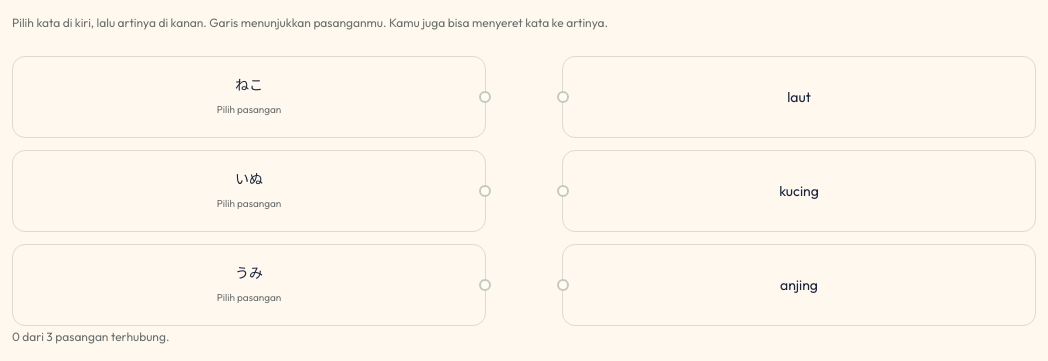
Scenario: connected matching exercise › reassigns an occupied answer without keeping a stale connection
Click the button with aria-label "ねこ, pilih pasangan".
click(249, 97)  # box [12,56,486,138]
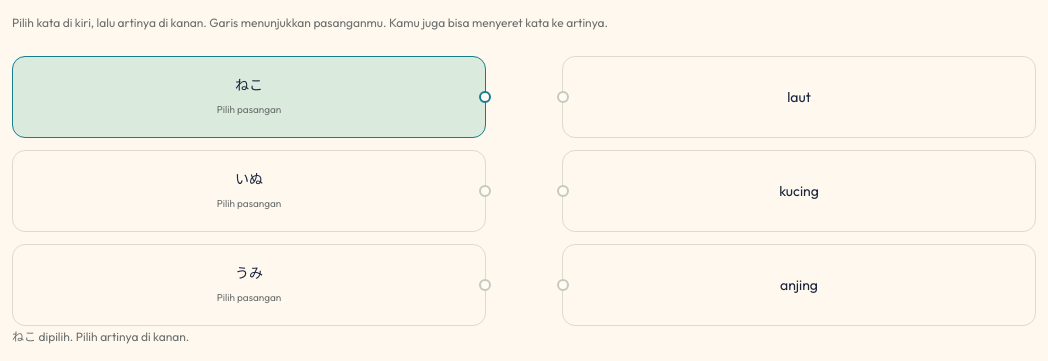
Click the button "kucing".
click(799, 191)  # box [562,150,1036,232]
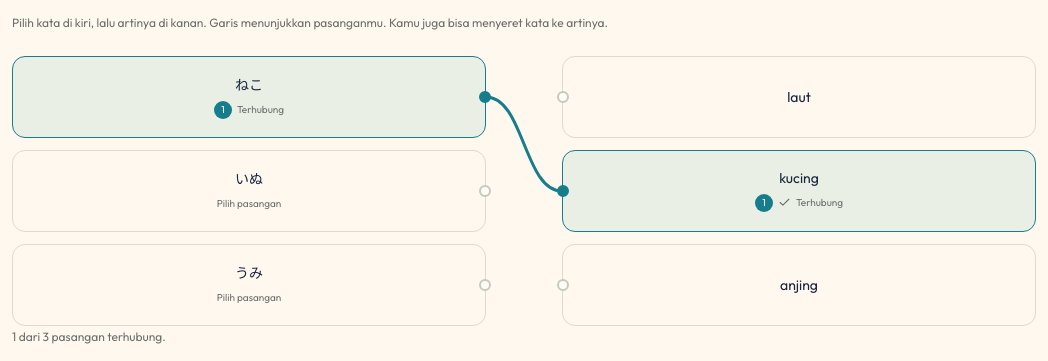
Click the button with aria-label "いぬ, pilih pasangan".
click(249, 191)  # box [12,150,486,232]
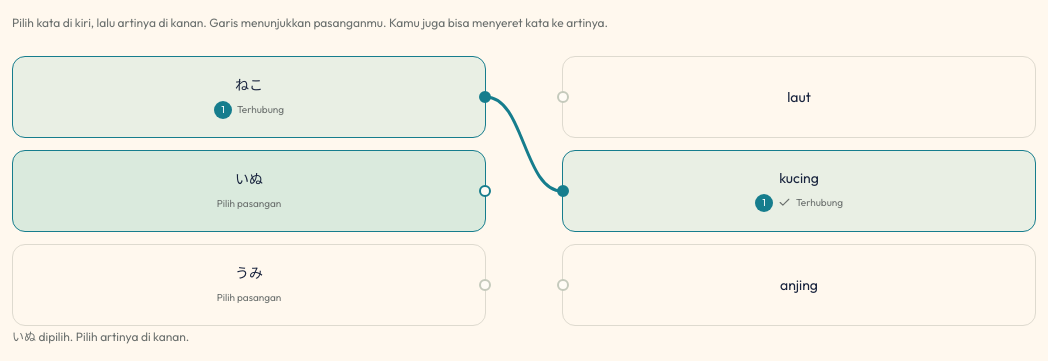
Click the button with aria-label "kucing, pasangan 1 dengan ねこ".
click(799, 178)  # box [562,150,1036,232]
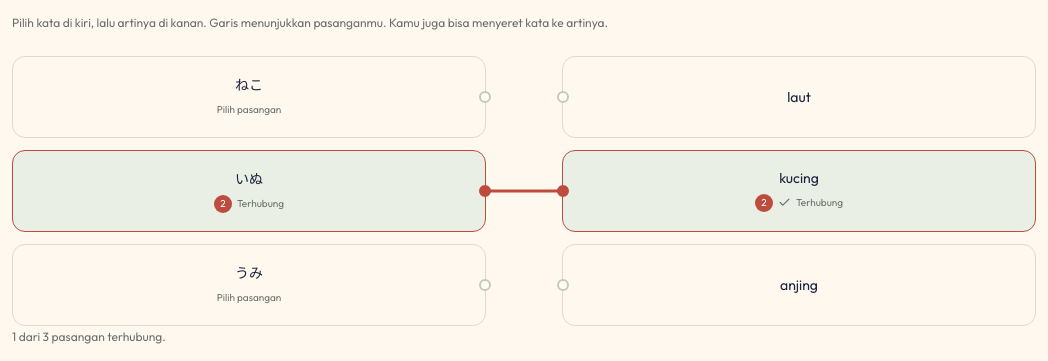
Check: the button with aria-label "ねこ, pilih pasangan" is shown, box [12,56,486,138]
Check: the button with aria-label "kucing, pasangan 2 dengan いぬ" is shown, box [562,150,1036,232]
